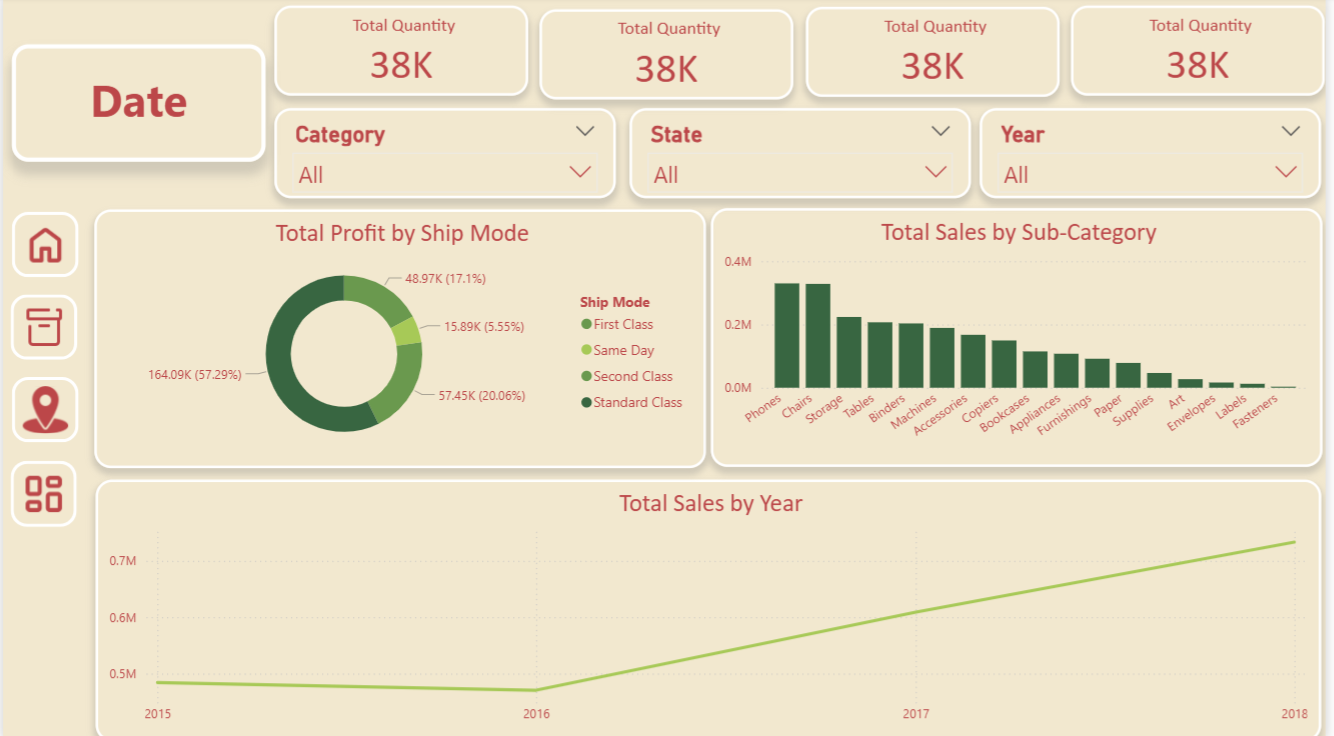

The page's visual inventory and layout, read from the dashboard file:
{"tool":"powerbi","page":{"name":"Date","canvas":[1280,720],"ordinal":4},"visuals":[{"type":"textbox","box":[8.5,46,245.7,113.8],"z":0},{"type":"actionButton","box":[7.9,448.6,64,64],"z":1000},{"type":"actionButton","box":[8.2,208,64.5,63.1],"z":2000},{"type":"actionButton","box":[6.9,288.2,64.5,63.1],"z":3000},{"type":"actionButton","box":[8.2,368.4,64.5,63.1],"z":4000},{"type":"card","title":"Total Quantity","fields":{"Values":["Daxmeasures.T_quantity"]},"box":[262.7,8.5,245.7,87.2],"z":5000},{"type":"card","title":"Total Quantity","fields":{"Values":["Daxmeasures.T_quantity"]},"box":[519.7,11.7,245.7,87.2],"z":6000},{"type":"card","title":"Total Quantity","fields":{"Values":["Daxmeasures.T_quantity"]},"box":[776.7,10.1,245.7,87.2],"z":7000},{"type":"card","title":"Total Quantity","fields":{"Values":["Daxmeasures.T_quantity"]},"box":[1033.8,8.5,245.7,87.2],"z":8000},{"type":"slicer","title":"Total Quantity","fields":{"Values":["ProductDim.Category"]},"box":[262.7,107.7,330,87.2],"z":9000},{"type":"slicer","title":"Total Quantity","fields":{"Values":["CustomerDim.State"]},"box":[605.9,107.7,330.5,87.2],"z":10000},{"type":"slicer","title":"Total Quantity","fields":{"Values":["Sales.Ship Date.Variation.Date Hierarchy.Year"]},"box":[945.4,107.7,330.5,87.2],"z":11000},{"type":"lineChart","fields":{"Category":["DateDim.Order Date.Variation.Date Hierarchy.Year","DateDim.Order Date.Variation.Date Hierarchy.Quarter","DateDim.Order Date.Variation.Date Hierarchy.Month","DateDim.Order Date.Variation.Date Hierarchy.Day"],"Y":["Daxmeasures.T_sales"]},"box":[90,466.7,1186.7,253.3],"z":12000},{"type":"donutChart","fields":{"Y":["Daxmeasures.Total Profit"],"Series":["Sales.Ship Mode"]},"box":[88.3,205.2,591.7,250],"z":14000},{"type":"clusteredColumnChart","fields":{"Category":["ProductDim.Sub-Category"],"Y":["Daxmeasures.T_sales"]},"box":[685,205,591.7,250],"z":15000}]}

Visuals, with their boxes in screenshot pixels (x1, y1, x2, y2), scaled from the page's 1280x720 canvas onto the 1334x736 screenshot:
textbox: 9, 47, 265, 163
actionButton: 8, 459, 75, 524
actionButton: 9, 213, 76, 277
actionButton: 7, 295, 74, 359
actionButton: 9, 377, 76, 441
"Total Quantity" card: 274, 9, 530, 98
"Total Quantity" card: 542, 12, 798, 101
"Total Quantity" card: 809, 10, 1066, 99
"Total Quantity" card: 1077, 9, 1333, 98
"Total Quantity" slicer: 274, 110, 618, 199
"Total Quantity" slicer: 631, 110, 976, 199
"Total Quantity" slicer: 985, 110, 1330, 199
lineChart - DateDim.Order Date.Variation.Date Hierarchy.Year x DateDim.Order Date.Variation.Date Hierarchy.Quarter: 94, 477, 1331, 735
donutChart - Daxmeasures.Total Profit x Sales.Ship Mode: 92, 210, 709, 465
clusteredColumnChart - ProductDim.Sub-Category x Daxmeasures.T_sales: 714, 210, 1331, 465
